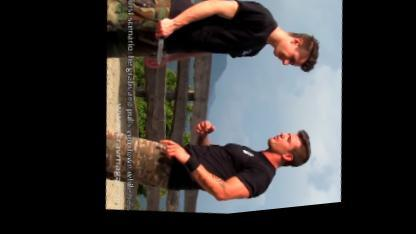knife: (147, 18, 173, 70)
